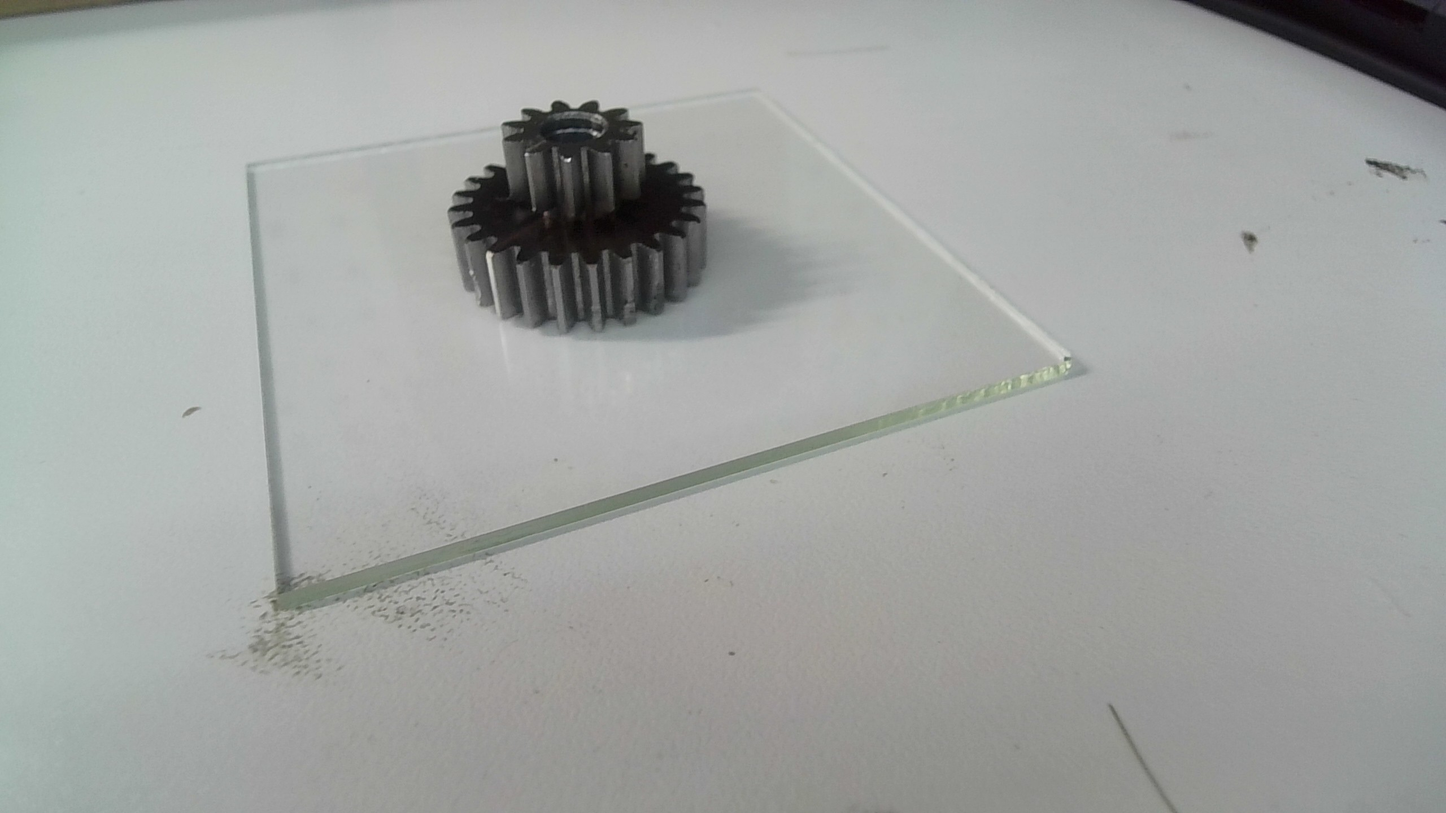gear: (443, 93, 715, 341)
